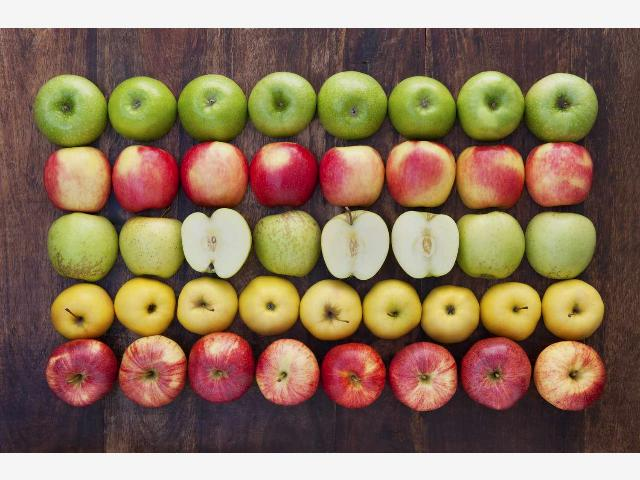green apple: (34, 74, 109, 147), (525, 73, 599, 142), (318, 70, 388, 139), (525, 212, 597, 279), (46, 213, 118, 279), (456, 211, 526, 278), (179, 74, 248, 141), (458, 70, 525, 139), (324, 211, 391, 280), (181, 210, 251, 276), (250, 72, 317, 139), (109, 76, 177, 142), (392, 212, 460, 278), (387, 76, 456, 141), (256, 210, 322, 277), (120, 218, 186, 278)
red apple: (462, 338, 533, 411), (534, 342, 607, 412), (388, 342, 458, 413), (119, 337, 189, 408), (48, 340, 120, 407), (386, 139, 456, 207), (111, 145, 181, 213), (181, 140, 250, 208), (189, 333, 255, 403), (458, 143, 527, 209), (45, 146, 113, 212), (526, 143, 595, 208), (250, 141, 317, 207), (322, 343, 386, 409), (256, 339, 320, 405), (320, 145, 387, 206)
